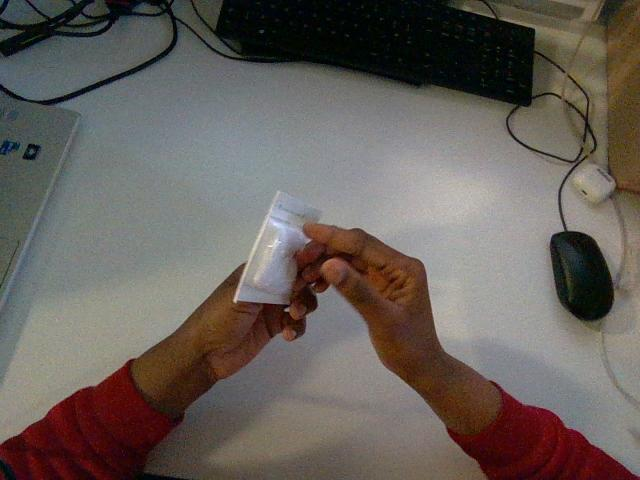gauze: (233, 191, 320, 304)
